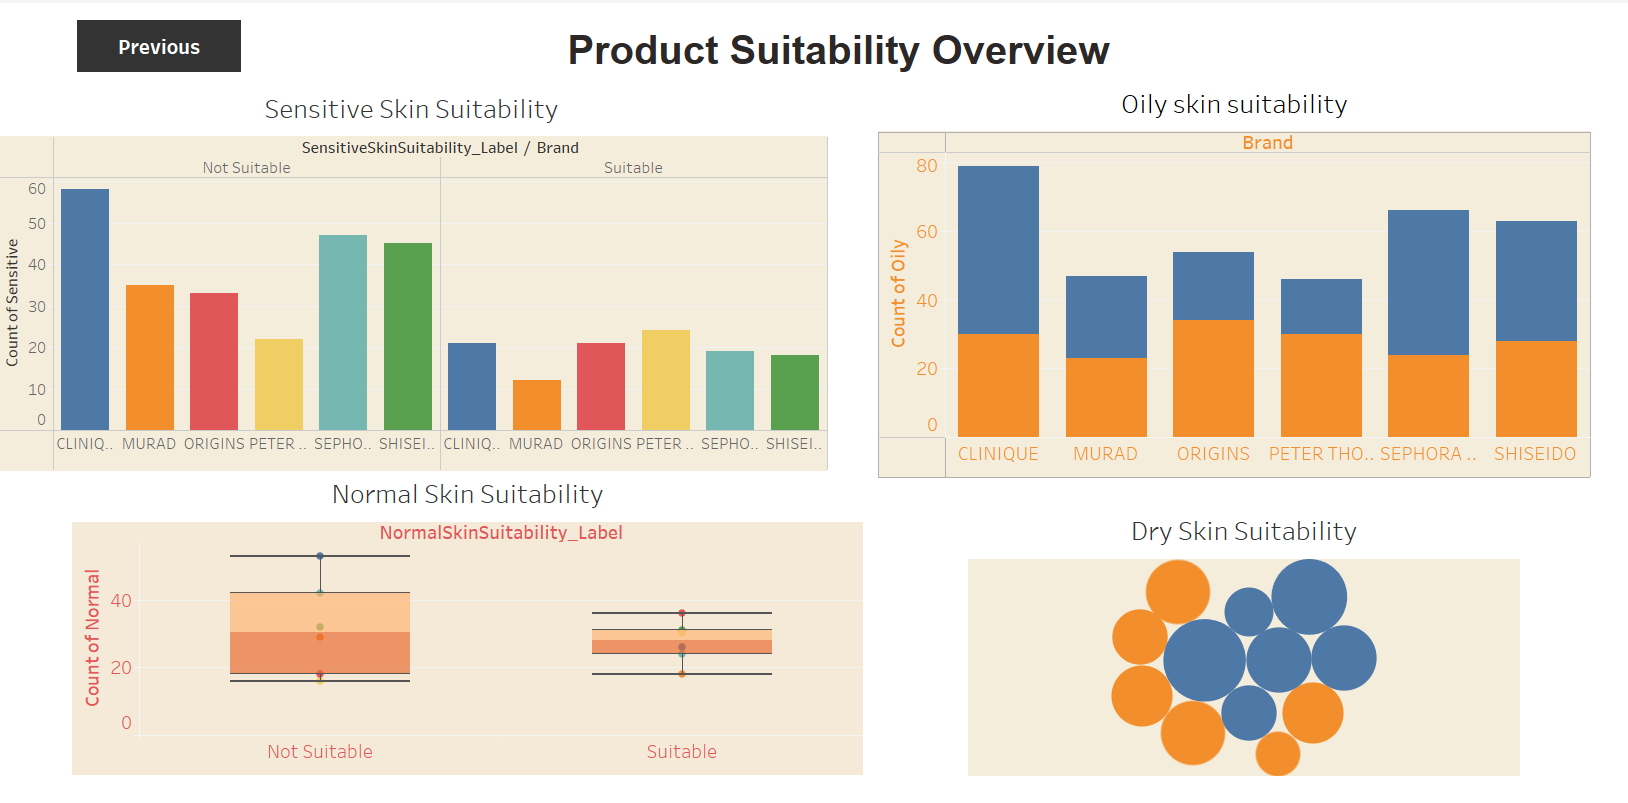

The dashboard page shown, as its layout file describes it:
{"tool":"tableau","page":{"name":"Product Suitability Overview","canvas":[1000,1000],"units":"permille","ordinal":1},"visuals":[{"type":"dashboard-object","box":[53.7,21.2,99,64.9]},{"type":"text","box":[347.6,31.2,331.3,56.2]},{"type":"worksheet","title":"Oily skin suitability","mark":"Automatic","rows":["Oily"],"cols":["Brand"],"box":[537.1,98.6,430.3,494.4]},{"type":"worksheet","title":"Sensitive Skin Suitability","mark":"Automatic","rows":["Sensitive"],"cols":["Calculation_603763851050807296","Brand"],"box":[3.6,104.9,503.9,479.4]},{"type":"worksheet","title":"Normal Skin Suitability","mark":"Circle","rows":["Normal"],"cols":["Calculation_603763851056480259"],"box":[50.7,585.5,477.4,378.3]},{"type":"worksheet","title":"Dry Skin Suitability","mark":"Circle","box":[591.4,631.7,333.1,333.3]}]}

Visuals, with their boxes on the dashboard's canvas, which has no fixed pixel size, in thousandths of its width and height (x1, y1, x2, y2). These are canvas units, not pixel positions in the 1628x803 screenshot, which may show the page scaled, cropped or inside an application window:
dashboard-object: x1=54, y1=21, x2=153, y2=86
text: x1=348, y1=31, x2=679, y2=87
"Oily skin suitability" worksheet: x1=537, y1=99, x2=967, y2=593
"Sensitive Skin Suitability" worksheet: x1=4, y1=105, x2=508, y2=584
"Normal Skin Suitability" worksheet (Circle marks): x1=51, y1=586, x2=528, y2=964
"Dry Skin Suitability" worksheet (Circle marks): x1=591, y1=632, x2=924, y2=965
